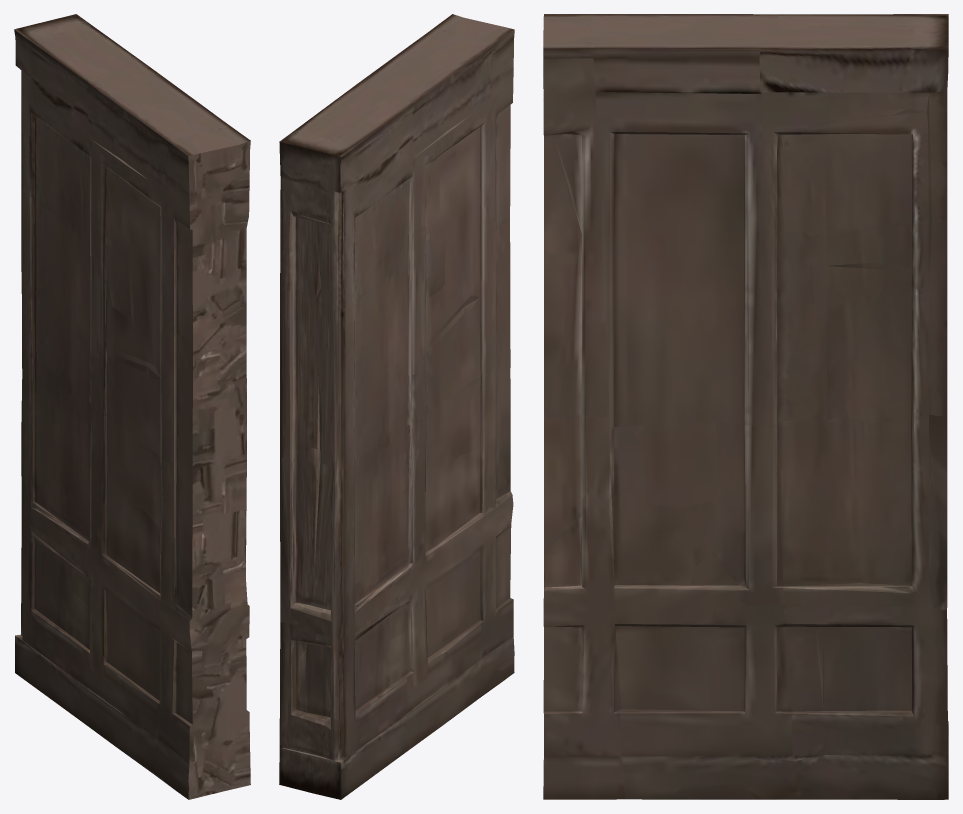
Rendered from SM_MuHuBan_A000C_VTWElementLookDev5_a0fc0b.glb.
The picture shows the model from 3 angles, left to right: view 1: azimuth 30°, elevation 25°; view 2: azimuth 150°, elevation 25°; view 3: azimuth 270°, elevation 25°; orthographic projection. The views are drawn at different scales.
Parts seen in each view (by area): view 1: SM_MuHuBan_A000C_VTWElementLookDev5; view 2: SM_MuHuBan_A000C_VTWElementLookDev5; view 3: SM_MuHuBan_A000C_VTWElementLookDev5.
Part boxes in pixels (x1,y1,x2,y2): SM_MuHuBan_A000C_VTWElementLookDev5: (14, 14, 250, 799); SM_MuHuBan_A000C_VTWElementLookDev5: (279, 14, 514, 799); SM_MuHuBan_A000C_VTWElementLookDev5: (543, 14, 948, 799).
Bounding box in the file's own units: 0.1228 × 1.2 × 0.5876.
Materials: 1 (1 with a texture image).
